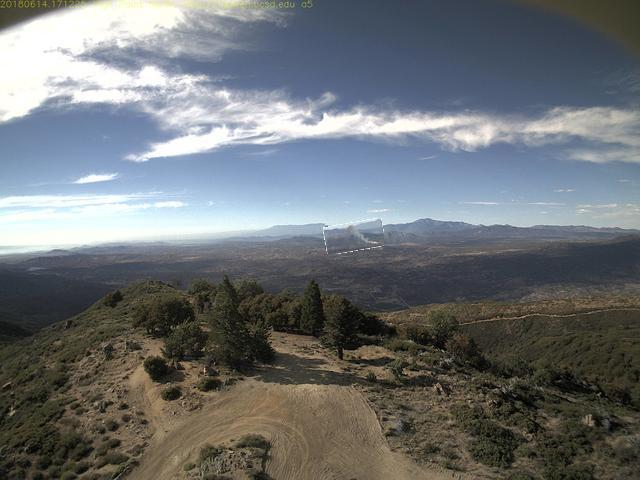smoke: (325, 222, 386, 254)
